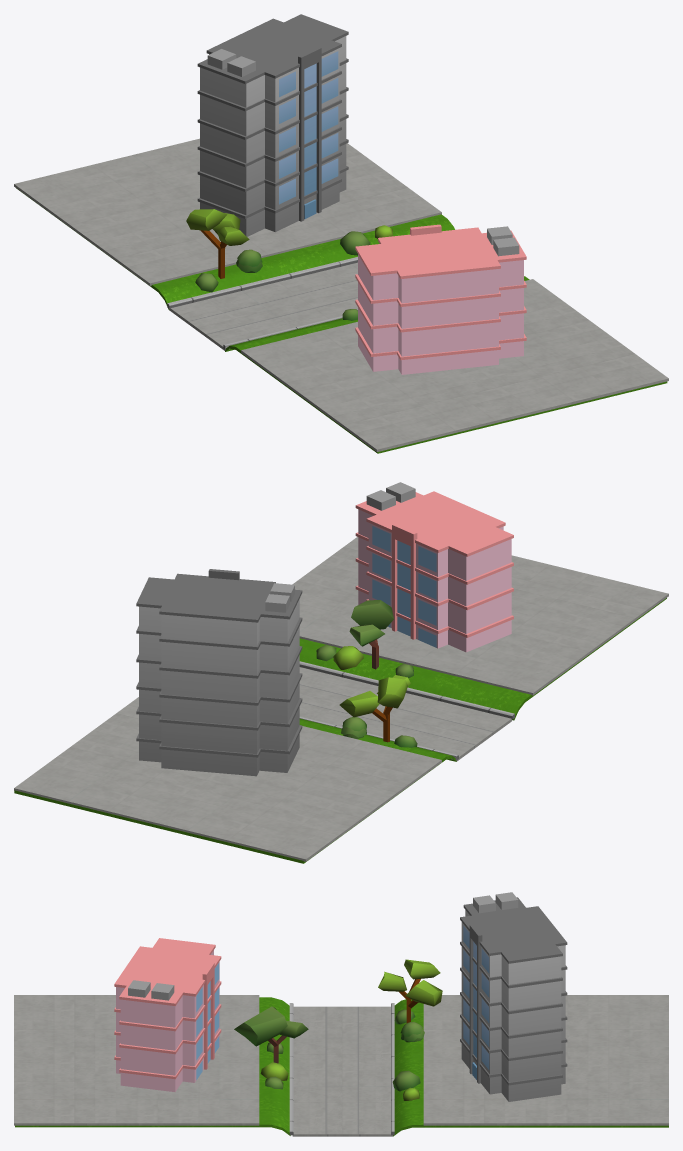
Rendered from Level 1 Chunk 6.fbx.
3 renders of one model, top to bottom at view 1: azimuth 30°, elevation 25°; view 2: azimuth 150°, elevation 25°; view 3: azimuth 270°, elevation 25°, orthographic. The views are drawn at different scales.
Visible parts, largest first — view 1: pCube13920, Building_C46, pCube13919, pPlane1780, pCube13909, pCube13905, pCube13906, pCube13911, pCube13907; view 2: Building_C46, pCube13919, pCube13920, pPlane1780, pCube13909, pCube13906, pCube13905, pCube13911, polySurface56, pCube13914; view 3: pCube13920, pCube13919, Building_C46, pPlane1780, pCube13909, pCube13905, pCube13906, pCube13911, polySurface56, pCube13914, pCube13907, pSphere294.
Boxes of the visible parts, x1,y1,x2,y2 form: pCube13920: (241,279,668,451); Building_C46: (197,14,348,236); pCube13919: (14,138,441,285); pPlane1780: (355,224,526,374); pCube13909: (169,262,357,350); pCube13905: (16,188,454,309); pCube13906: (225,276,667,453); pCube13911: (186,209,249,278); pCube13907: (167,257,357,308); Building_C46: (136,569,302,776); pCube13919: (14,697,441,861); pCube13920: (292,537,668,695); pPlane1780: (355,482,513,652); pCube13909: (299,667,511,761); pCube13906: (299,598,666,720); pCube13905: (14,718,456,863); pCube13911: (339,675,410,742); polySurface56: (349,600,393,669); pCube13914: (299,661,514,719); pCube13920: (14,995,259,1125); pCube13919: (423,995,668,1125); Building_C46: (460,892,567,1101); pPlane1780: (114,938,221,1091); pCube13909: (292,1006,392,1136); pCube13905: (393,999,668,1136); pCube13906: (15,997,290,1135); pCube13911: (378,959,442,1022); polySurface56: (234,1006,308,1063); pCube13914: (289,1003,293,1135); pCube13907: (391,1003,394,1135); pSphere294: (392,1070,420,1091).
Size of the model in its own units: 12.41 by 7.31 by 26.6.
Materials: 2 (2 with a texture image).
